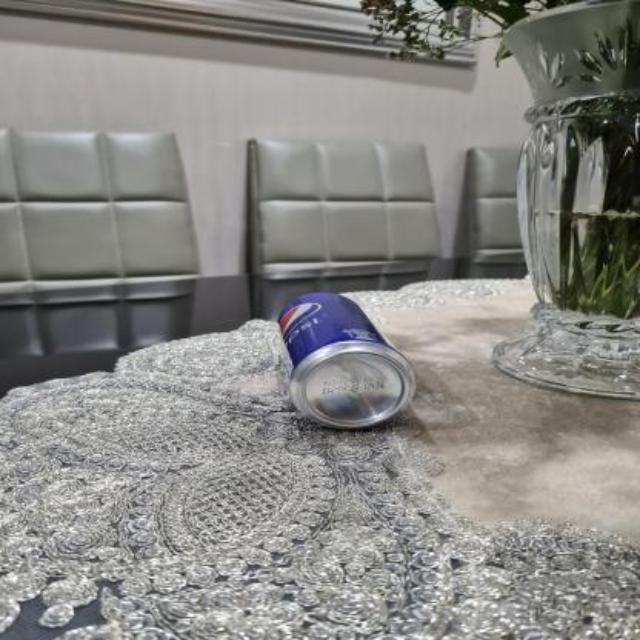metal: (277, 291, 412, 426)
